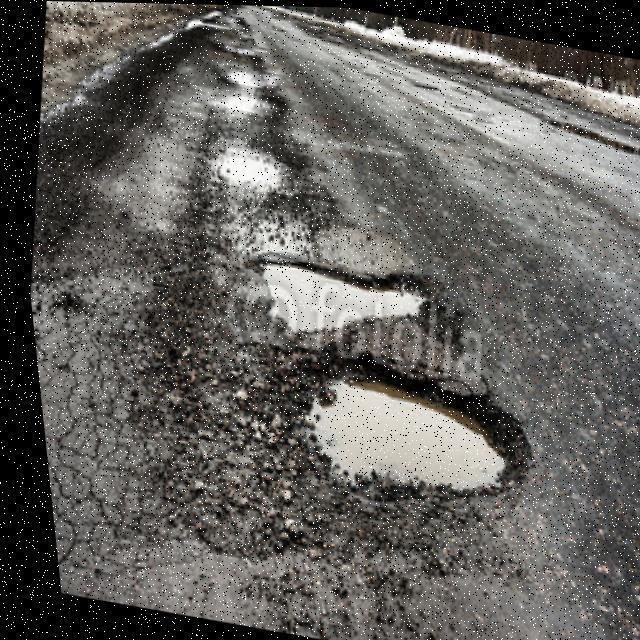Pothole: (304, 359, 529, 504), (249, 249, 431, 338)
